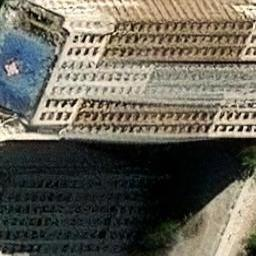heliponto: (0, 31, 50, 113)
